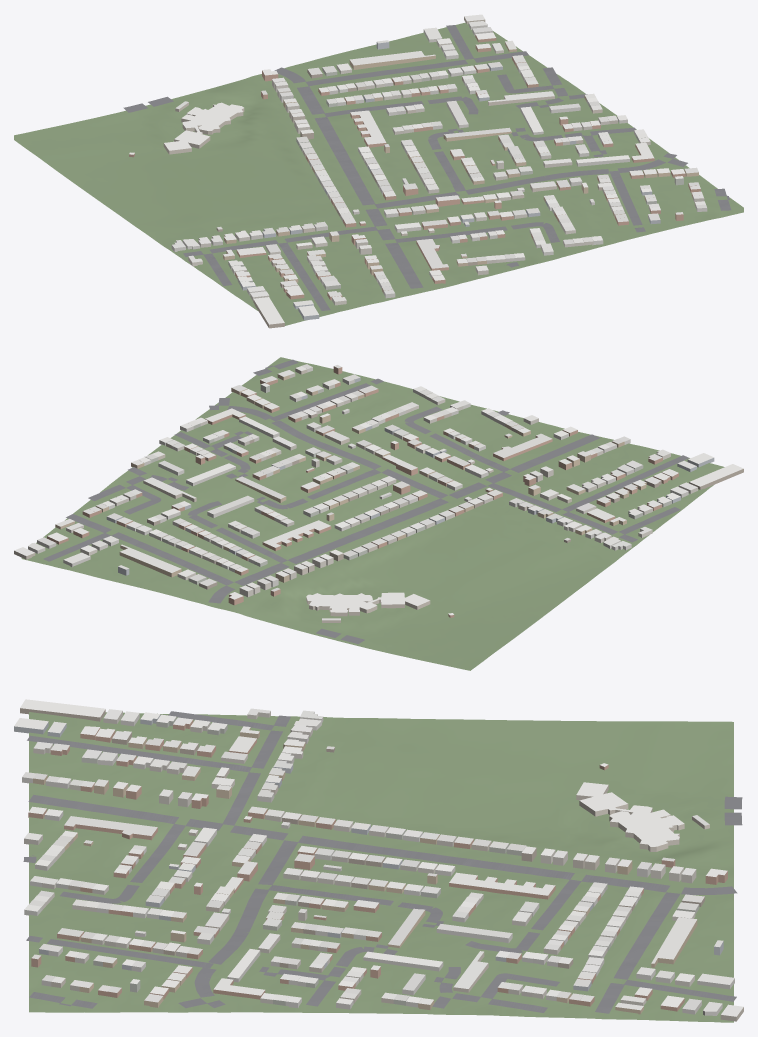
The picture shows the model from 3 angles, top to bottom: view 1: azimuth 30°, elevation 25°; view 2: azimuth 150°, elevation 25°; view 3: azimuth 270°, elevation 25°; orthographic projection. The views are drawn at different scales.
Parts seen in each view (by area): view 1: prim0, prim1, prim2; view 2: prim0, prim1, prim2; view 3: prim0, prim1, prim2.
Boxes of the visible parts, x1,y1,x2,y2 form: prim0: (14, 22, 743, 325); prim1: (129, 14, 707, 328); prim2: (123, 25, 731, 310); prim0: (21, 357, 724, 670); prim1: (14, 364, 743, 622); prim2: (43, 359, 688, 643); prim0: (29, 712, 733, 1022); prim1: (14, 699, 743, 1021); prim2: (23, 711, 742, 1013).
Bounding box in the file's own units: 534 × 26.44 × 530.
